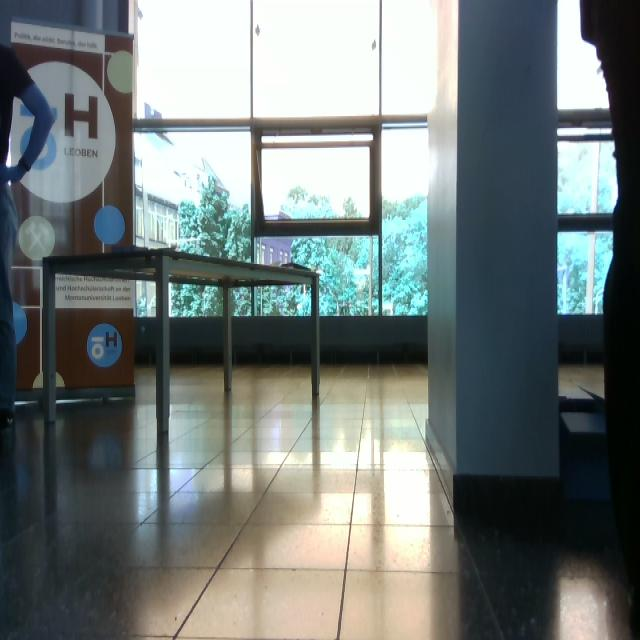door: (2, 9, 136, 401)
light bulb: (18, 216, 56, 261), (94, 205, 126, 245), (107, 50, 133, 96), (12, 301, 28, 346)
person: (1, 44, 56, 429)
pillar: (426, 1, 562, 506)
table: (39, 247, 326, 439)
window: (132, 1, 434, 321)
